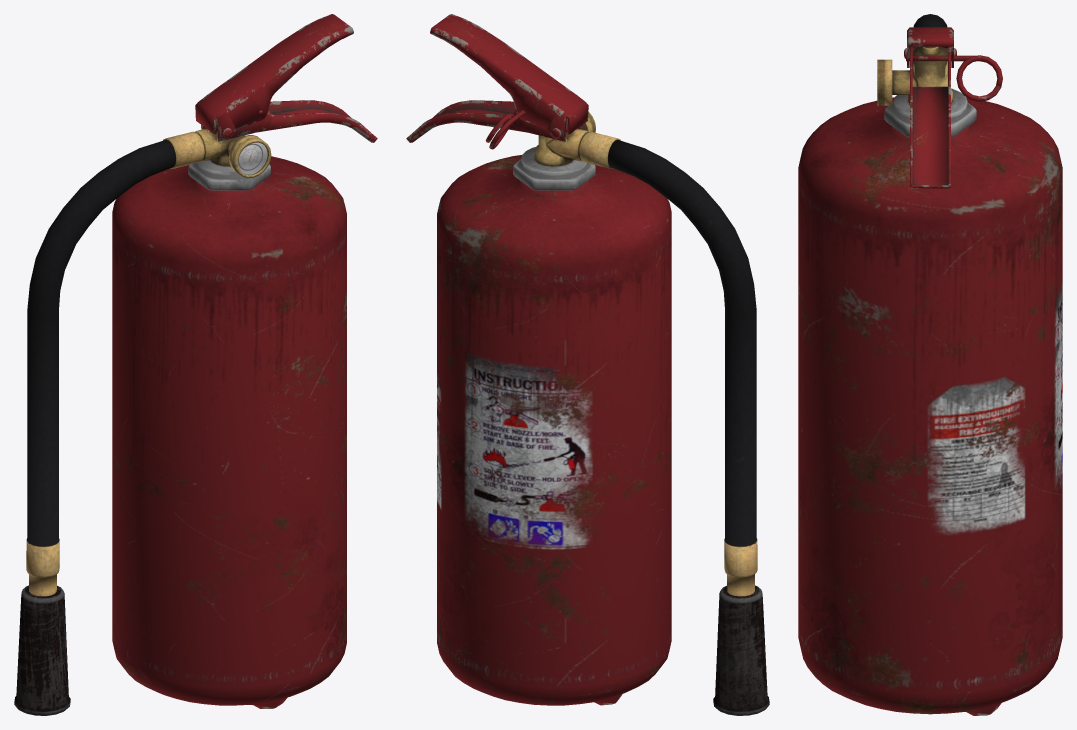
The model's file is obj_extinguisher_de1f1f.glb.
3 renders of one model, left to right at view 1: azimuth 30°, elevation 25°; view 2: azimuth 150°, elevation 25°; view 3: azimuth 270°, elevation 25°, orthographic. The views are drawn at different scales.
Visible parts, largest first — view 1: obj_extinguisher_de1f1f; view 2: obj_extinguisher_de1f1f; view 3: obj_extinguisher_de1f1f.
Part boxes in pixels (left/top/right/bottom): obj_extinguisher_de1f1f: left=14, top=14, right=377, bottom=715; obj_extinguisher_de1f1f: left=406, top=14, right=769, bottom=715; obj_extinguisher_de1f1f: left=798, top=14, right=1062, bottom=715.
Size of the model in its own units: 0.292 by 0.5 by 0.1697.
1 material, 1 textured.
